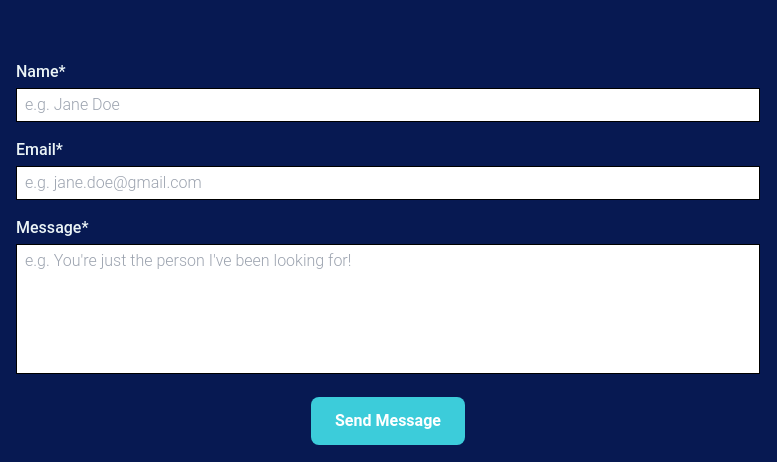
Test: displays error message on form submission failure
In the field with placeholder "e.g. Jane Doe": (388, 105) [16,88,760,122], type "John Doe"
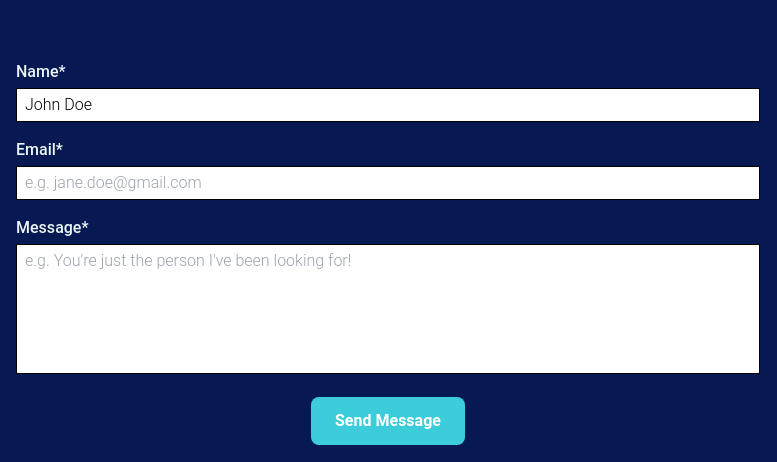
In the field with placeholder "e.g. jane.doe@gmail.com": (388, 183) [16,166,760,200], type "john.doe@example.com"
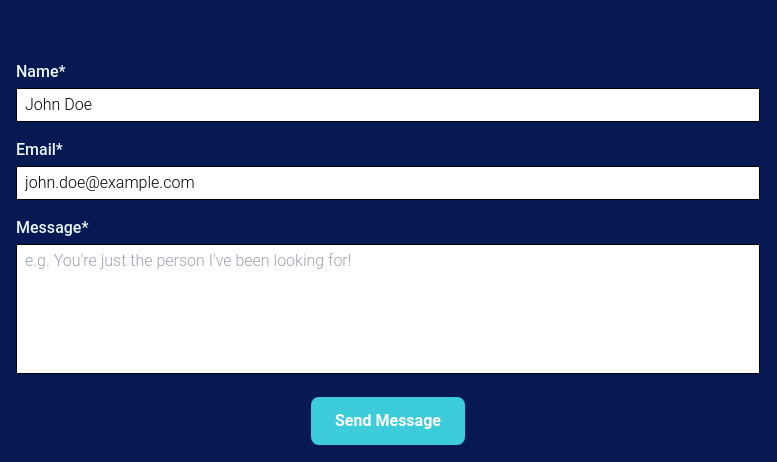
In the text box with placeholder "e.g. You're just the person I've been looking for!": (388, 309) [16,244,760,374], type "Hello!"
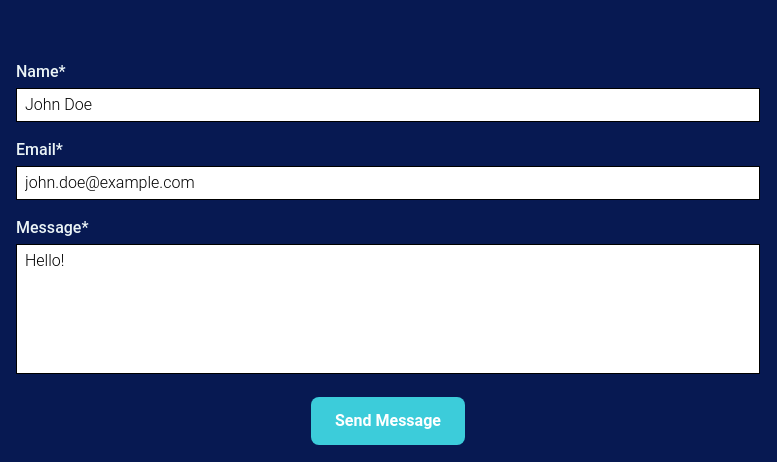
Click the button "Send Message": (388, 421) [311,397,465,445]
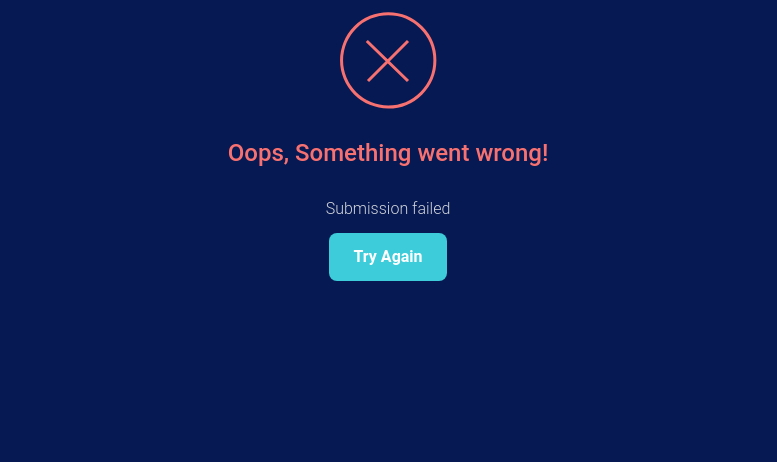
Result: the heading "Oops, Something went wrong!" is shown at [228,139,548,167]
Result: the text "Submission failed" is shown at [326,199,450,218]
